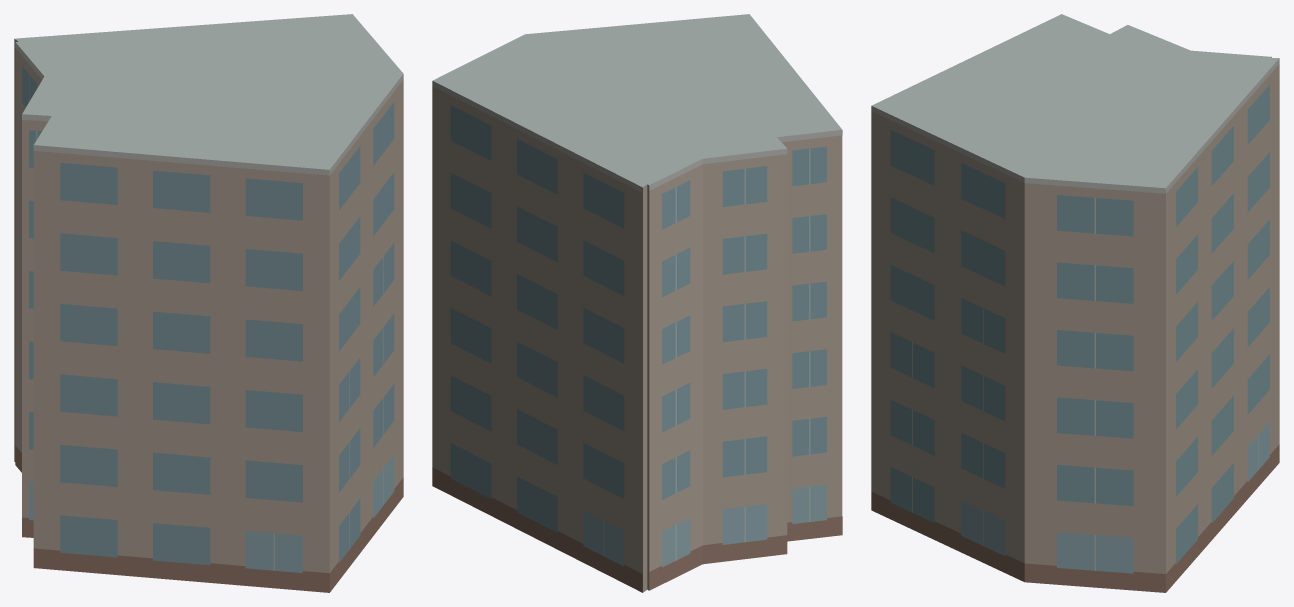
The model's file is survey-upis-32737403.glb.
3 views of the same model, side by side, from view 1: azimuth 30°, elevation 25°; view 2: azimuth 150°, elevation 25°; view 3: azimuth 270°, elevation 25° (orthographic). The views are drawn at different scales.
Parts seen in each view (by area): view 1: survey-upis-32737403.tmp; view 2: survey-upis-32737403.tmp; view 3: survey-upis-32737403.tmp.
Part boxes in pixels (<box>): survey-upis-32737403.tmp: <box>14,14,403,592</box>; survey-upis-32737403.tmp: <box>432,14,842,592</box>; survey-upis-32737403.tmp: <box>871,14,1279,592</box>.
Bounding box in the file's own units: 16.54 × 17.9 × 16.37.
